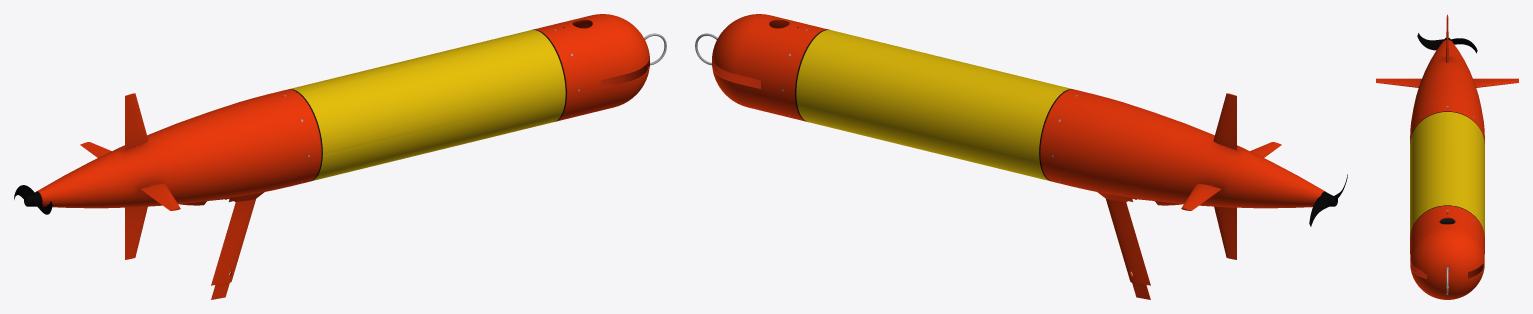
The model's file is tethys.dae.
The picture shows the model from 3 angles, left to right: view 1: azimuth 30°, elevation 25°; view 2: azimuth 150°, elevation 25°; view 3: azimuth 270°, elevation 25°; orthographic projection. The views are drawn at different scales.
Parts seen in each view (by area): view 1: Body, Tails, Nose, Fins_vertical, Fins_Horizontal, Prop; view 2: Body, Tails, Nose, Fins_vertical, Fins_Horizontal, Prop; view 3: Body, Nose, Tails, Fins_Horizontal, Prop, Fins_vertical.
Part boxes in pixels (x1,y1,x2,y2): Body: [289, 29, 566, 181]; Tails: [36, 89, 322, 299]; Nose: [532, 14, 666, 121]; Fins_vertical: [125, 93, 148, 259]; Fins_Horizontal: [80, 142, 180, 210]; Prop: [14, 185, 52, 214]; Body: [795, 29, 1072, 181]; Tails: [1039, 89, 1325, 299]; Nose: [695, 14, 829, 121]; Fins_vertical: [1213, 93, 1236, 259]; Fins_Horizontal: [1181, 142, 1281, 210]; Prop: [1309, 174, 1347, 226]; Body: [1410, 111, 1484, 237]; Nose: [1410, 205, 1484, 299]; Tails: [1410, 40, 1484, 143]; Fins_Horizontal: [1376, 78, 1518, 87]; Prop: [1417, 33, 1477, 53]; Fins_vertical: [1445, 14, 1449, 62].
Size of the model in its own units: 2377 by 582 by 801.
2 materials, 2 textured.
